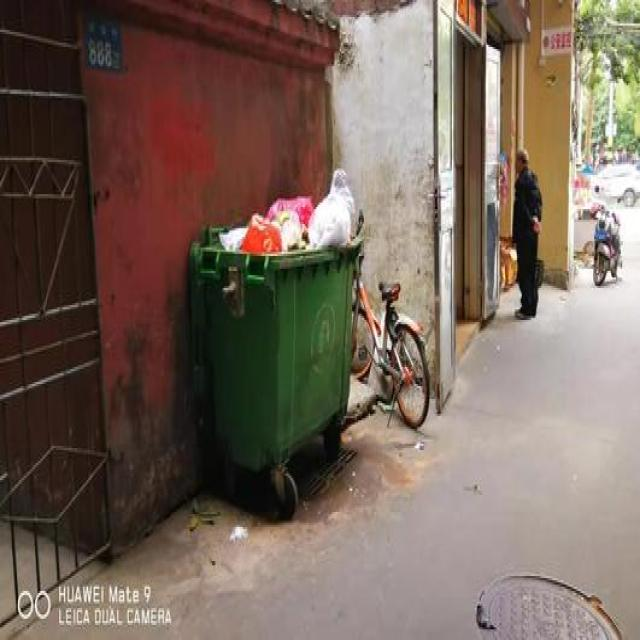overflow: (189, 166, 363, 470)
